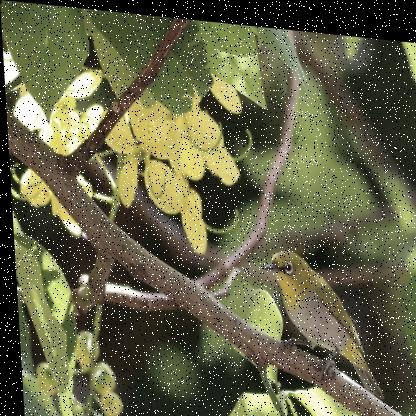Burung: (259, 241, 380, 394)
